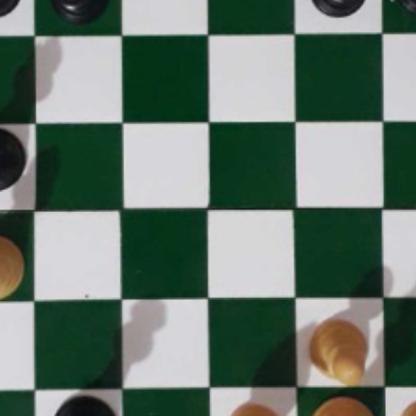black-bishop: (0, 126, 31, 193)
black-pawn: (49, 0, 107, 20), (307, 0, 367, 16), (0, 0, 20, 18), (396, 0, 416, 12)
black-queen: (47, 393, 120, 416)
white-bishop: (0, 232, 23, 305)
white-king: (309, 396, 382, 416)
white-knight: (217, 400, 298, 416)
white-pawn: (305, 314, 369, 382), (395, 398, 416, 416)
